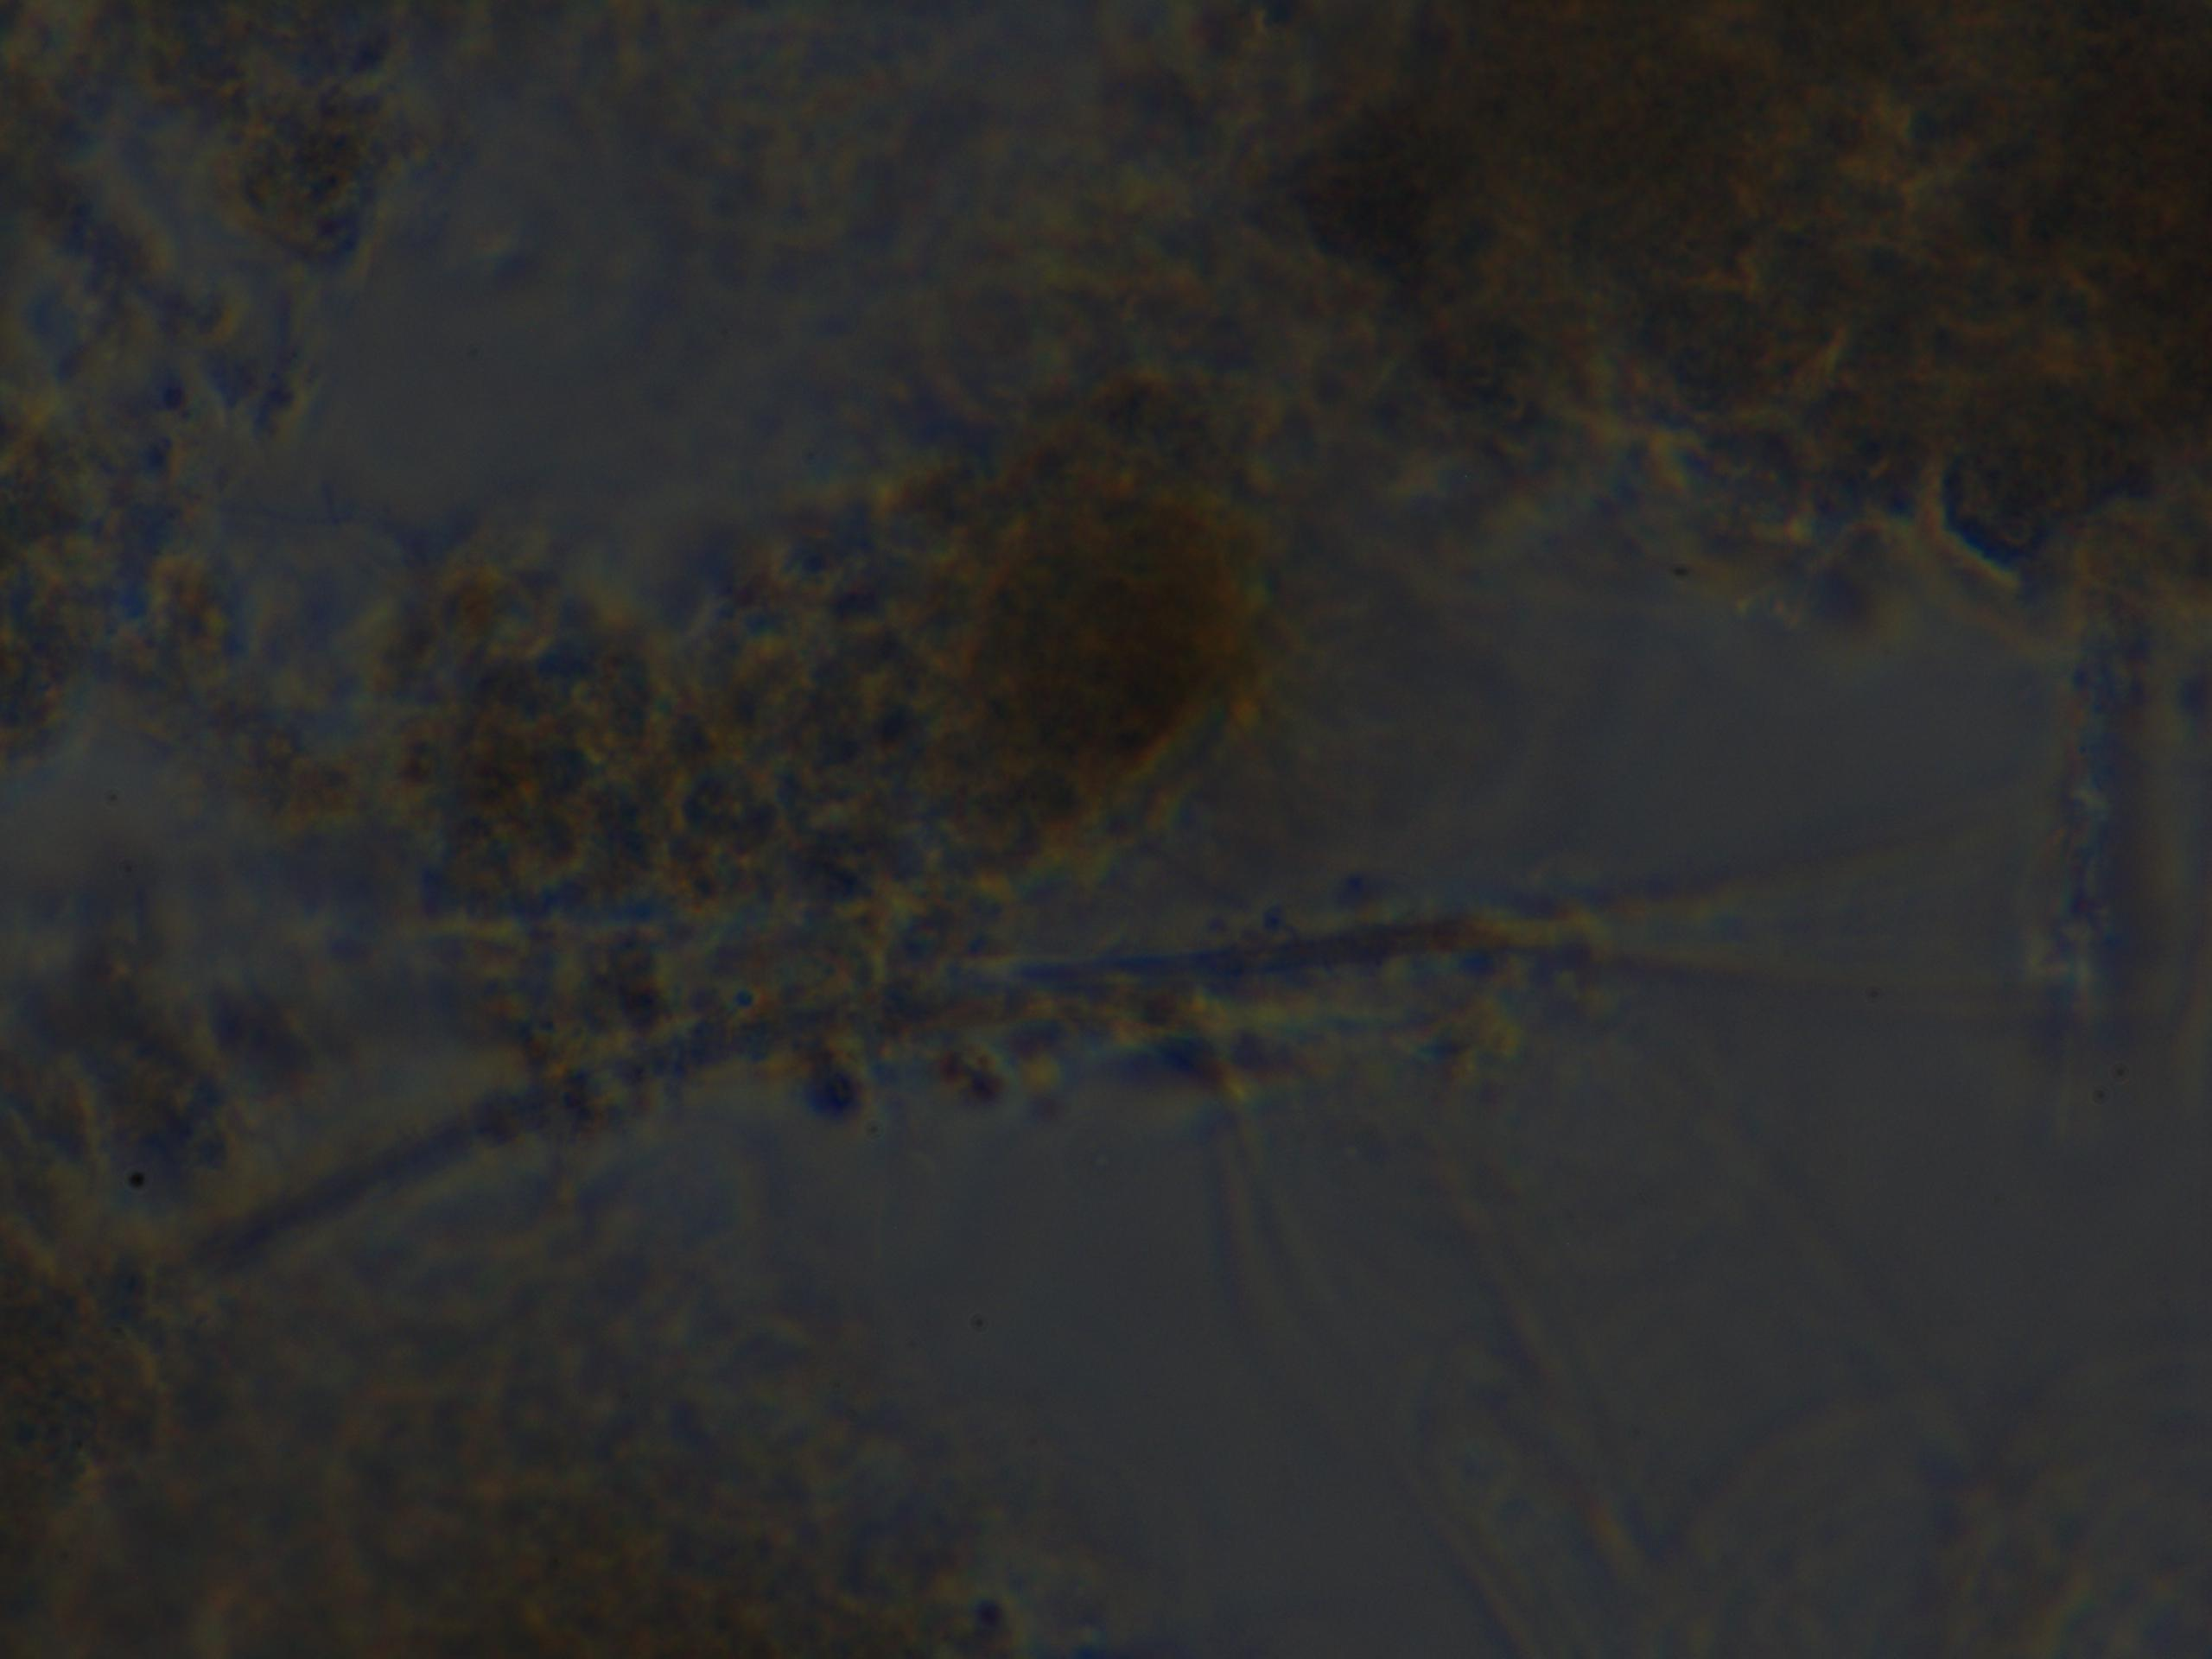filament: (145, 838, 2080, 1279)
